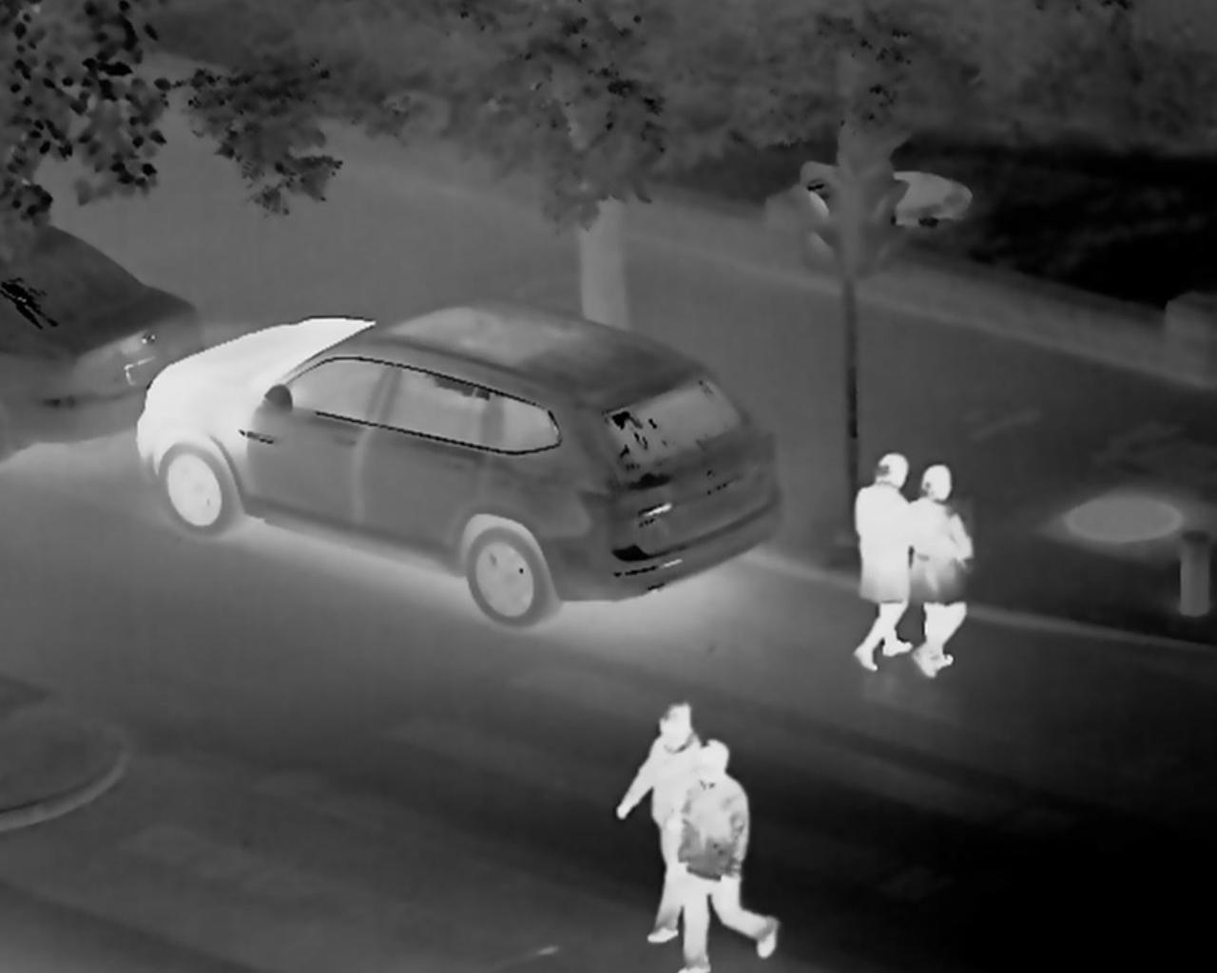person: (838, 450, 909, 657), (686, 750, 753, 968), (624, 693, 693, 846), (917, 467, 970, 654)
